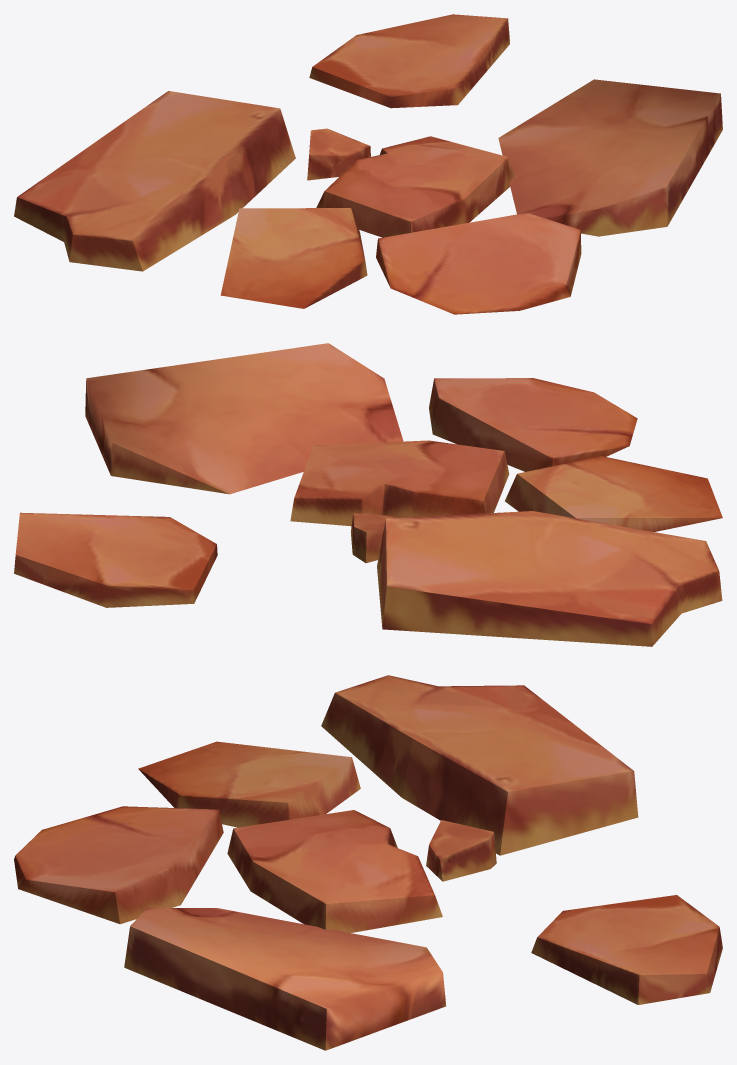
Rendered from suishi.FBX.
3 views of the same model, one above another, from view 1: azimuth 30°, elevation 25°; view 2: azimuth 150°, elevation 25°; view 3: azimuth 270°, elevation 25° (orthographic). The views are drawn at different scales.
Visible parts, largest first — view 1: suishi; view 2: suishi; view 3: suishi.
Boxes of the visible parts, x1,y1,x2,y2 form: suishi: [14, 14, 722, 314]; suishi: [14, 343, 722, 646]; suishi: [14, 675, 722, 1050].
Bounding box in the file's own units: 1.48 × 0.1252 × 1.28.
